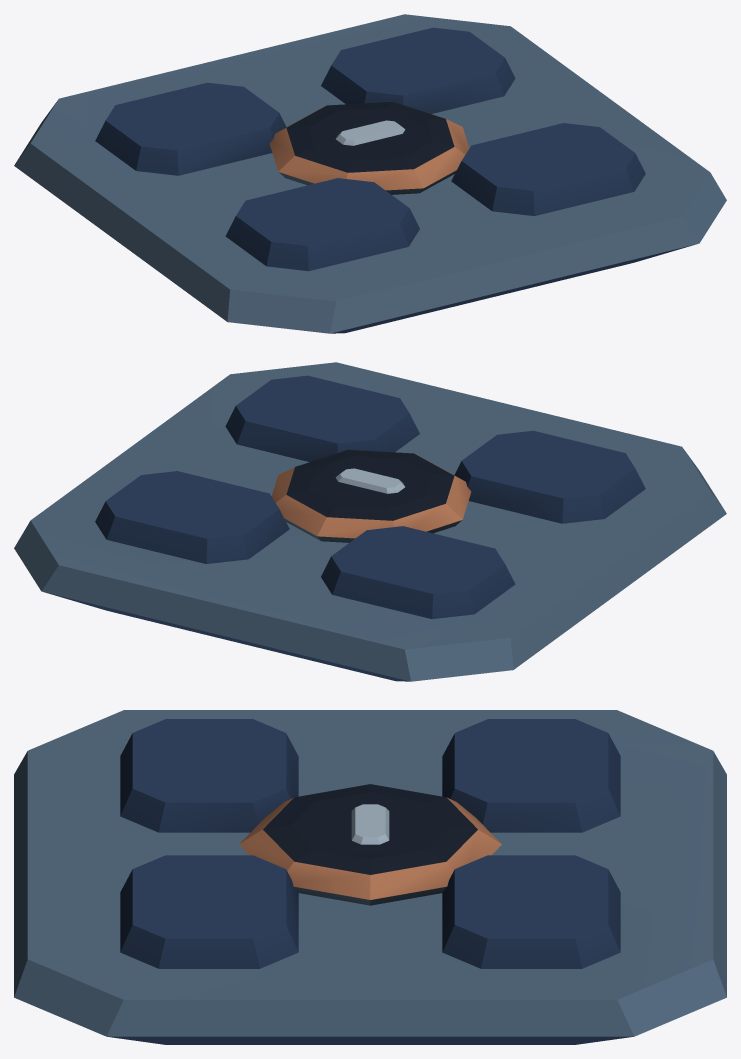
The model's file is occupiedSquare.glb.
3 views of the same model, one above another, from view 1: azimuth 30°, elevation 25°; view 2: azimuth 150°, elevation 25°; view 3: azimuth 270°, elevation 25° (orthographic). The views are drawn at different scales.
Visible parts, largest first — view 1: occupiedSquare; view 2: occupiedSquare; view 3: occupiedSquare.
Boxes of the visible parts, <box> form: occupiedSquare: <box>14,14,726,333</box>; occupiedSquare: <box>14,362,726,681</box>; occupiedSquare: <box>14,710,726,1044</box>.
Size of the model in its own units: 1.04 by 0.16 by 1.04.
